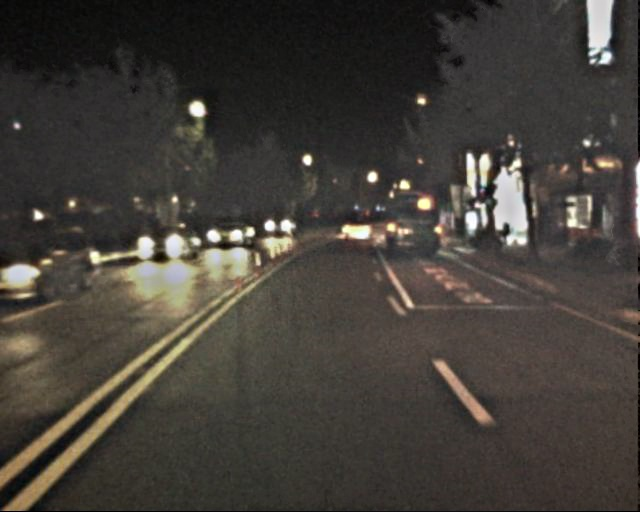person: (603, 222, 624, 274)
